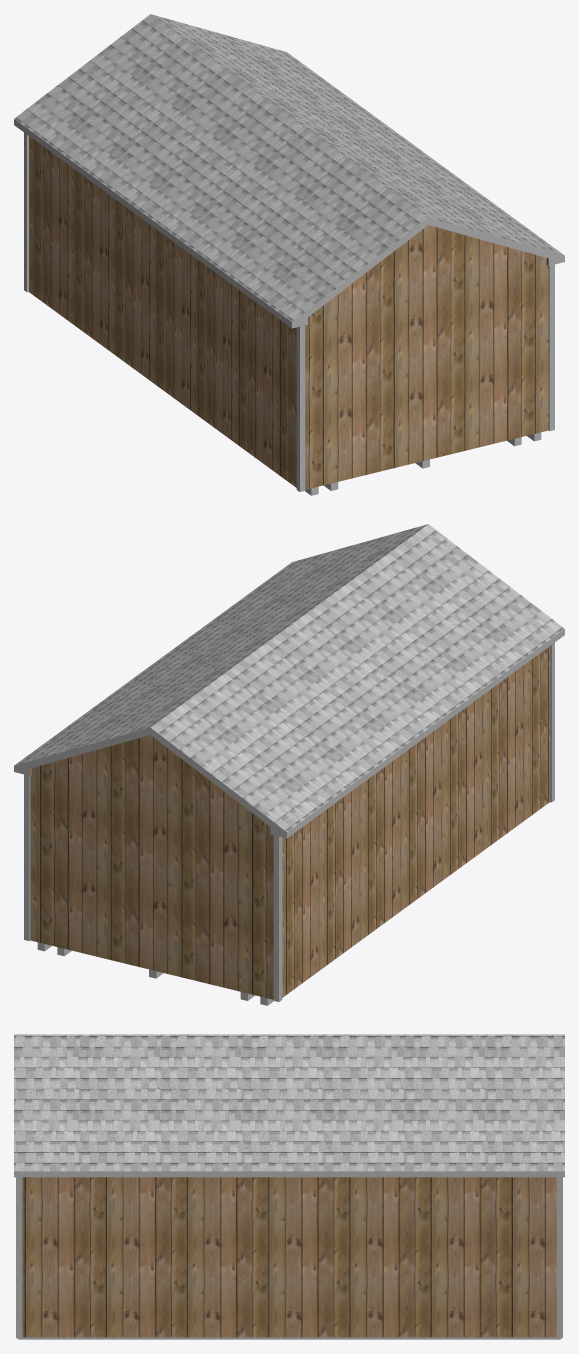
File: Single Garage A-frame_12x22.obj
3 renders of one model, top to bottom at view 1: azimuth 30°, elevation 25°; view 2: azimuth 150°, elevation 25°; view 3: azimuth 270°, elevation 25°, orthographic.
Parts seen in each view (by area): view 1: Shed, Roof, Sides, Trim; view 2: Shed, Roof, Sides, Trim; view 3: Shed, Roof, Sides, Trim, Floor.
Boxes of the visible parts, x1,y1,x2,y2 form: Shed: (29,136,548,489); Roof: (14,14,564,321); Sides: (14,119,564,328); Trim: (24,132,554,491); Shed: (30,646,549,999); Roof: (14,524,564,831); Sides: (14,629,564,838); Trim: (24,642,554,1001); Shed: (22,1177,556,1337); Roof: (14,1034,564,1171); Sides: (14,1171,564,1177); Trim: (16,1177,562,1338); Floor: (18,1337,560,1339).
Size of the model in its own units: 3.86 by 3.4 by 6.81.
